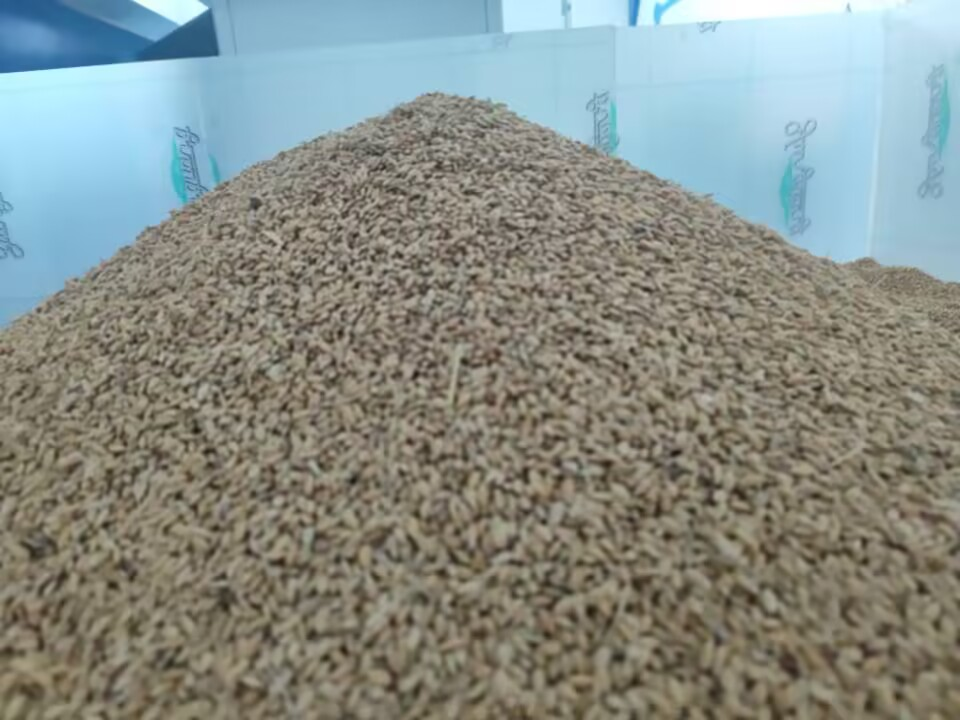Grain: (48, 28, 905, 612)
